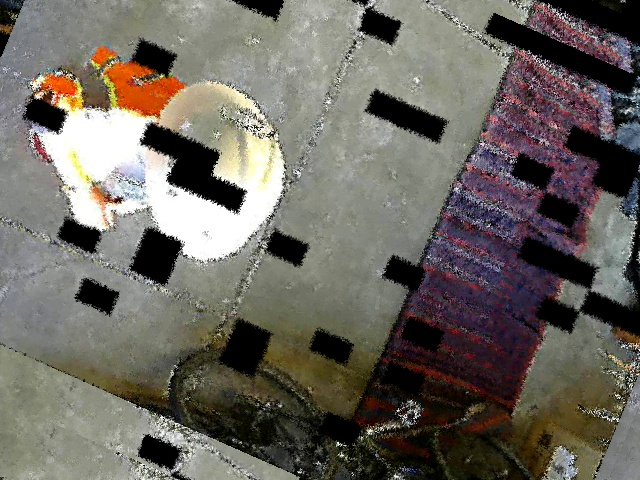eight: (212, 96, 280, 146)
